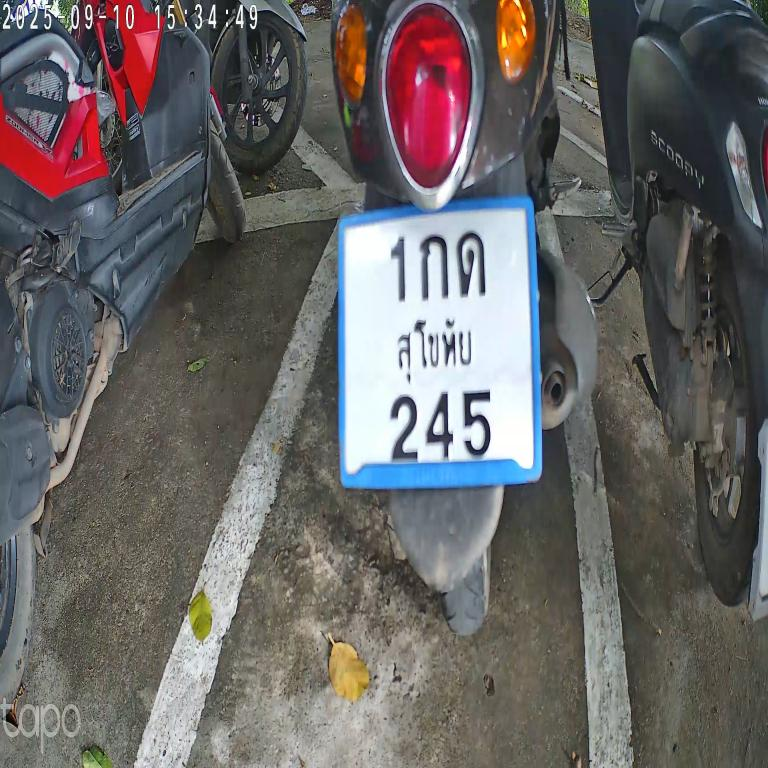license plate: (324, 184, 559, 502)
